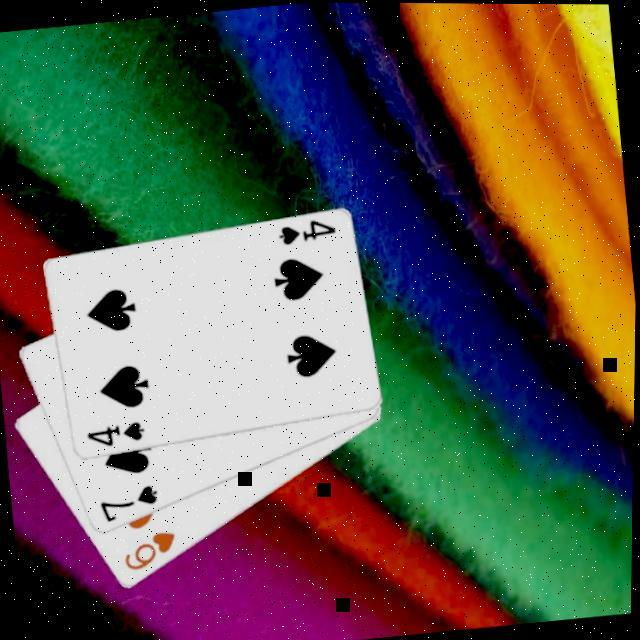4S: (83, 416, 150, 452), (275, 214, 341, 248)
6H: (119, 526, 184, 574)
7S: (96, 480, 164, 525)
